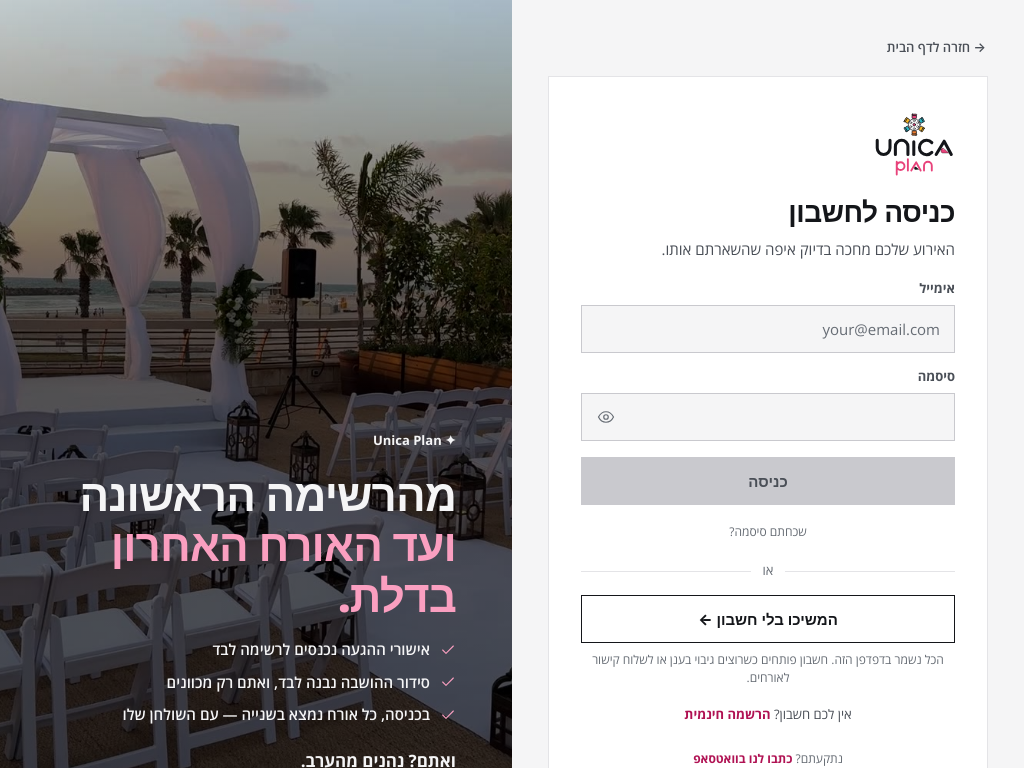
auth forms — accessible errors (AX6) › forgot-password: the e-mail field has a name and the error is announced
The image size is (1024, 768).
Click the button "שכחתם סיסמה?".
click(768, 532)  # box top-left (581, 523), bottom-right (955, 541)
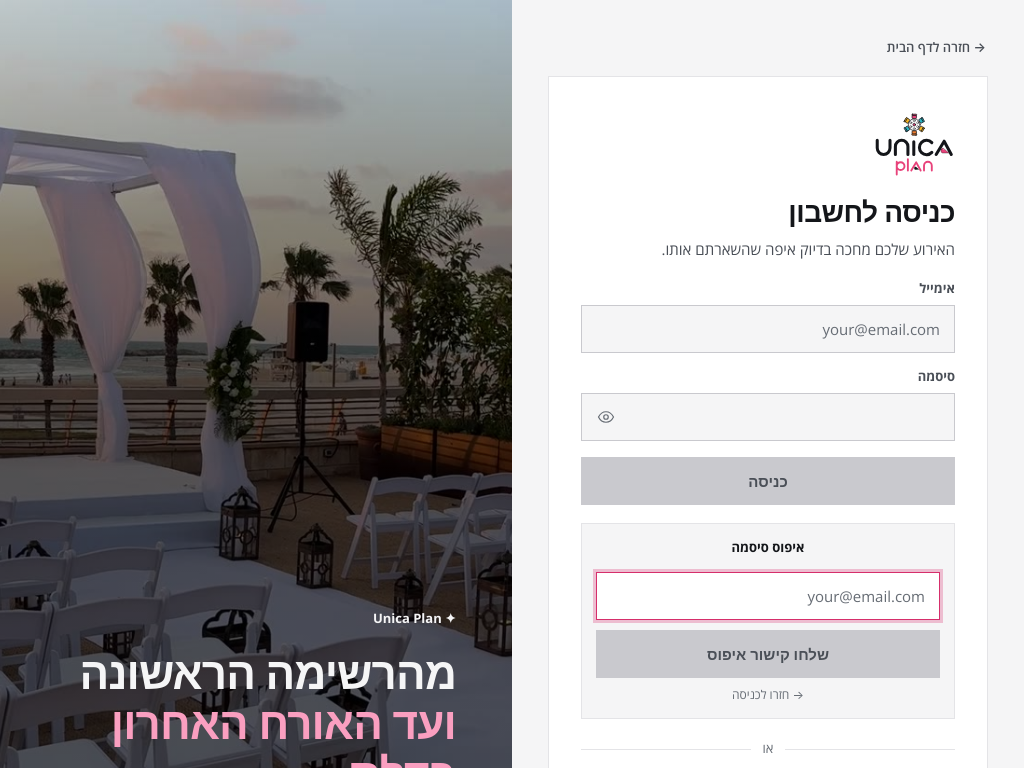
Type "a@b.co" into the field named "אימייל לאיפוס סיסמה".
click(768, 596); type("a@b.co")  # box top-left (596, 572), bottom-right (940, 620)
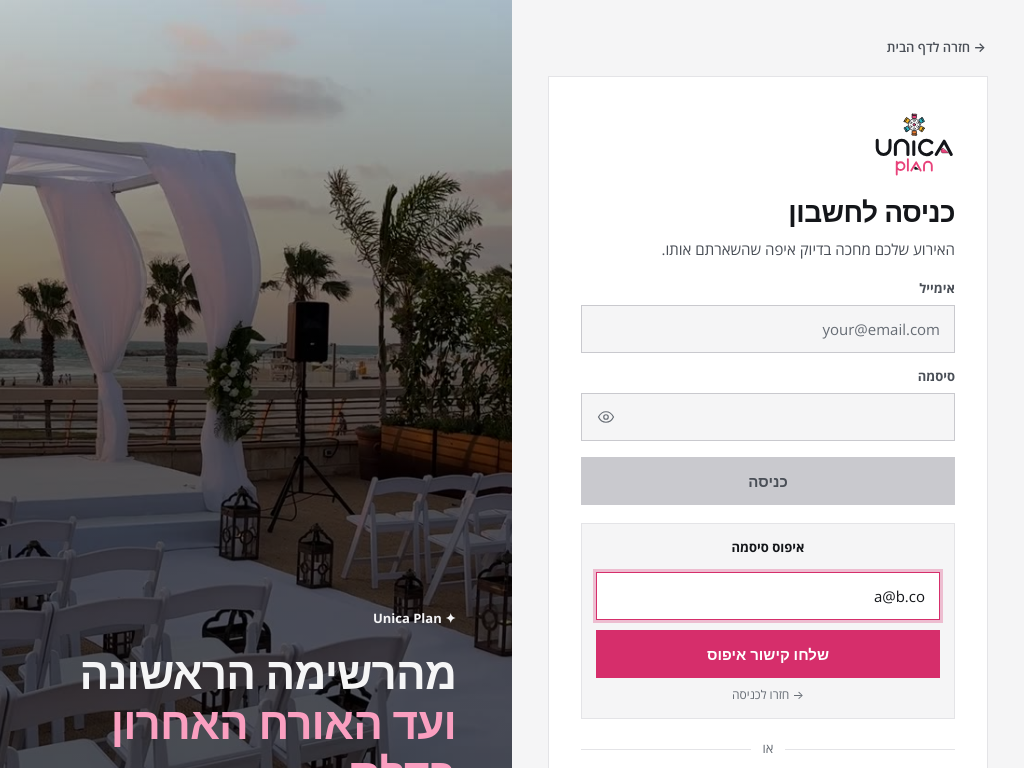
Click the button "שלחו קישור איפוס".
click(768, 654)  # box top-left (596, 630), bottom-right (940, 678)
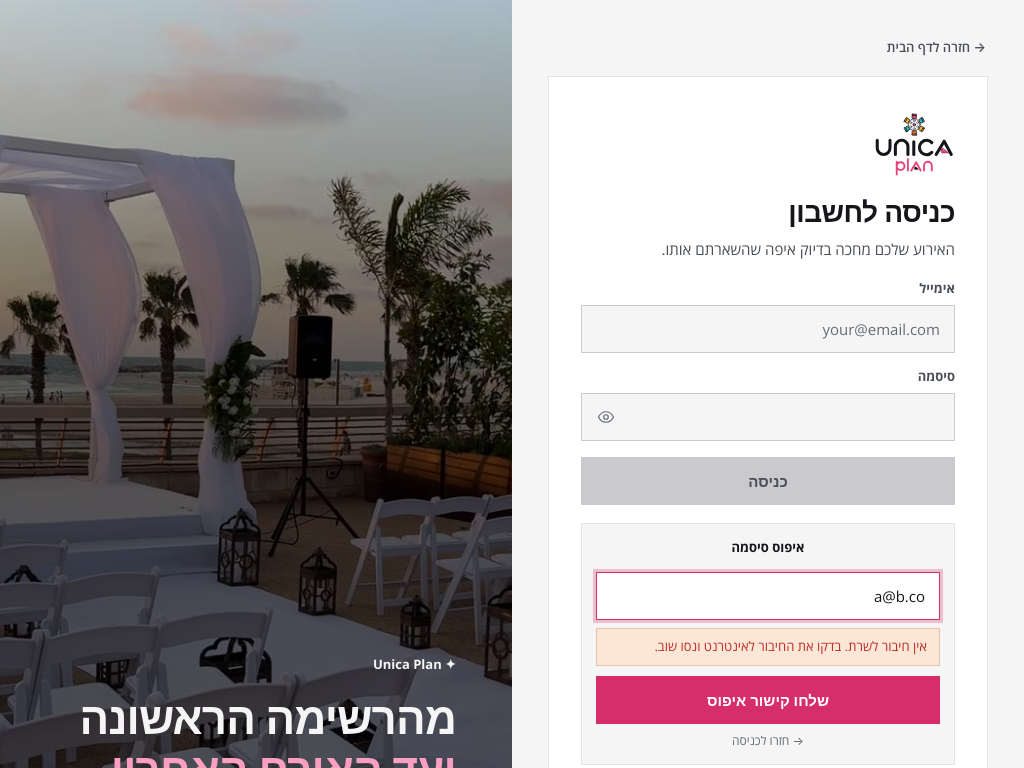
Check: the message shows "חיבור", box top-left (654, 637), bottom-right (927, 655)
